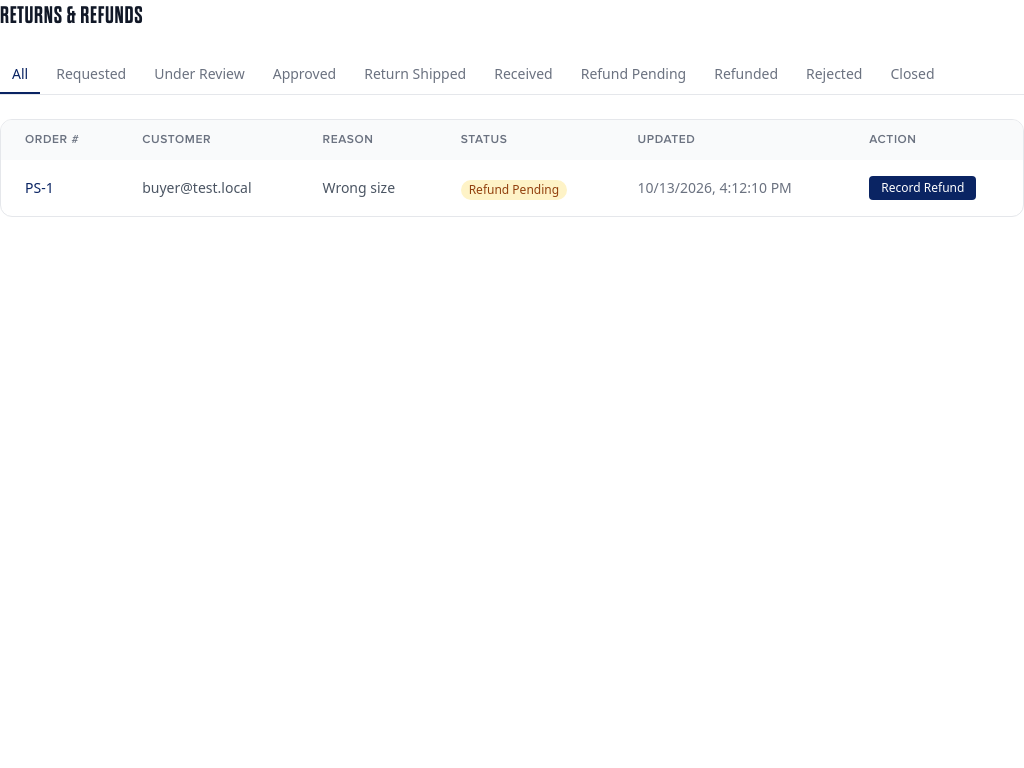
Test: AdminReturns — recording requirements › shows success confirmation with lifecycle exceptions and refreshes the queue
Click the button "Record Refund". click: coordinates (923, 188)
box: [869,176,976,200]
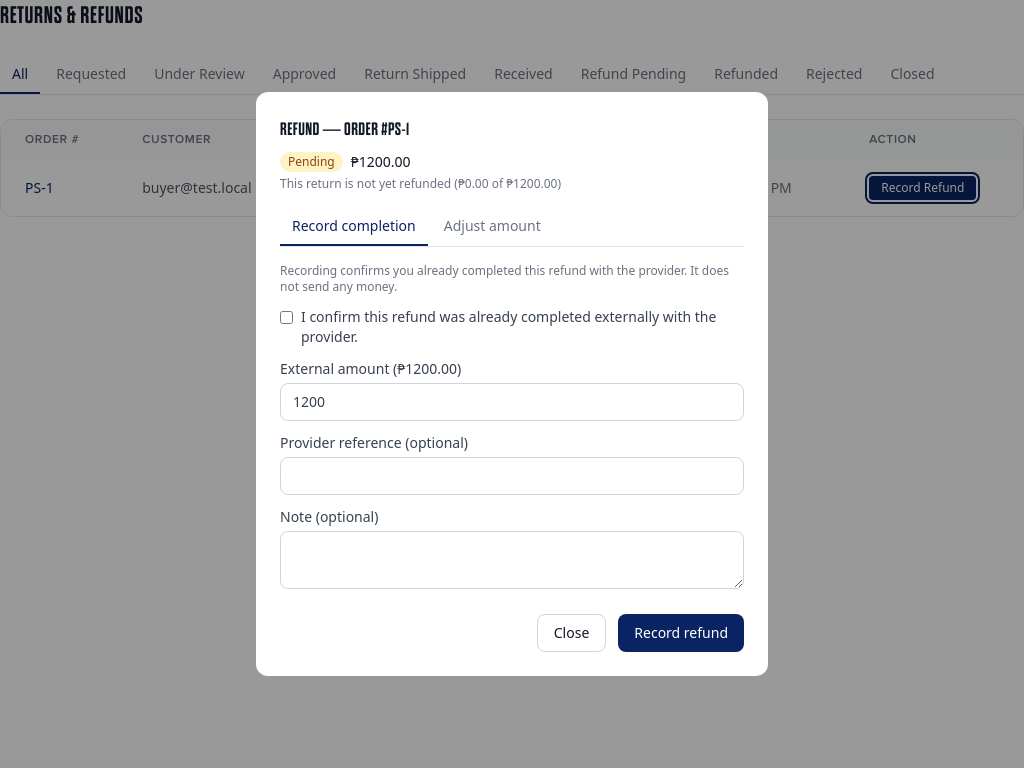
Result: the heading "Refund — Order #PS-1" is shown at [280,119,410,140]
Click the checkbox labelled "I confirm this refund was already completed". click: coordinates (286, 318)
box: [280,311,293,324]
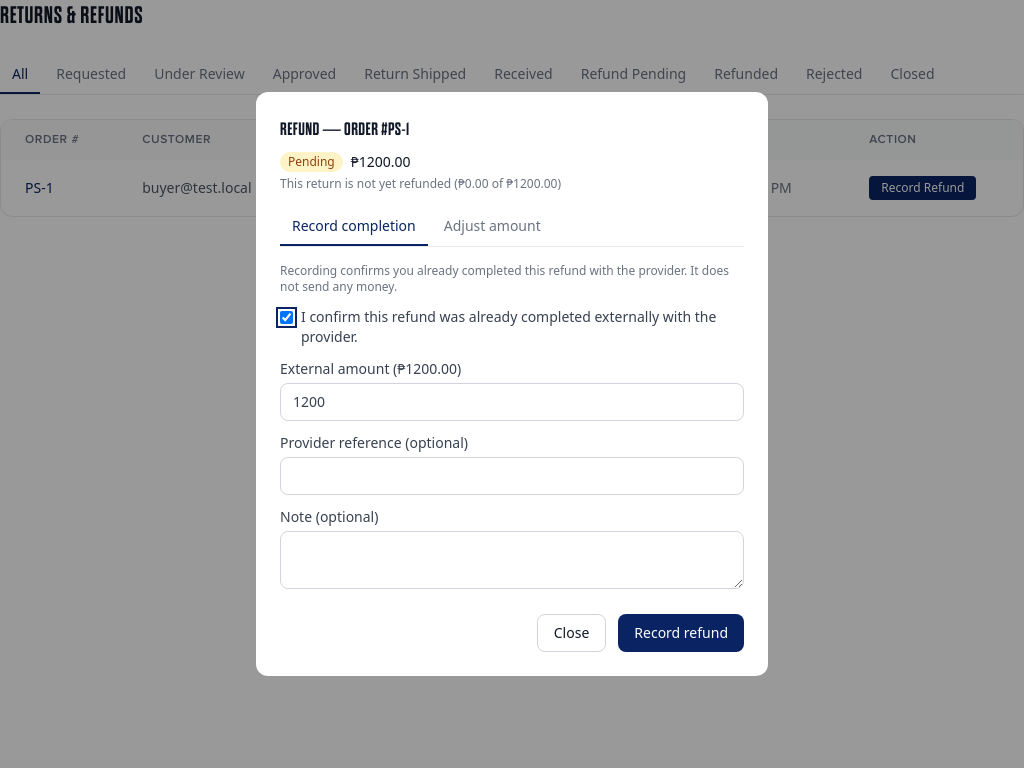
Click the button "Record refund". click: coordinates (681, 633)
box: [618,614,744,652]
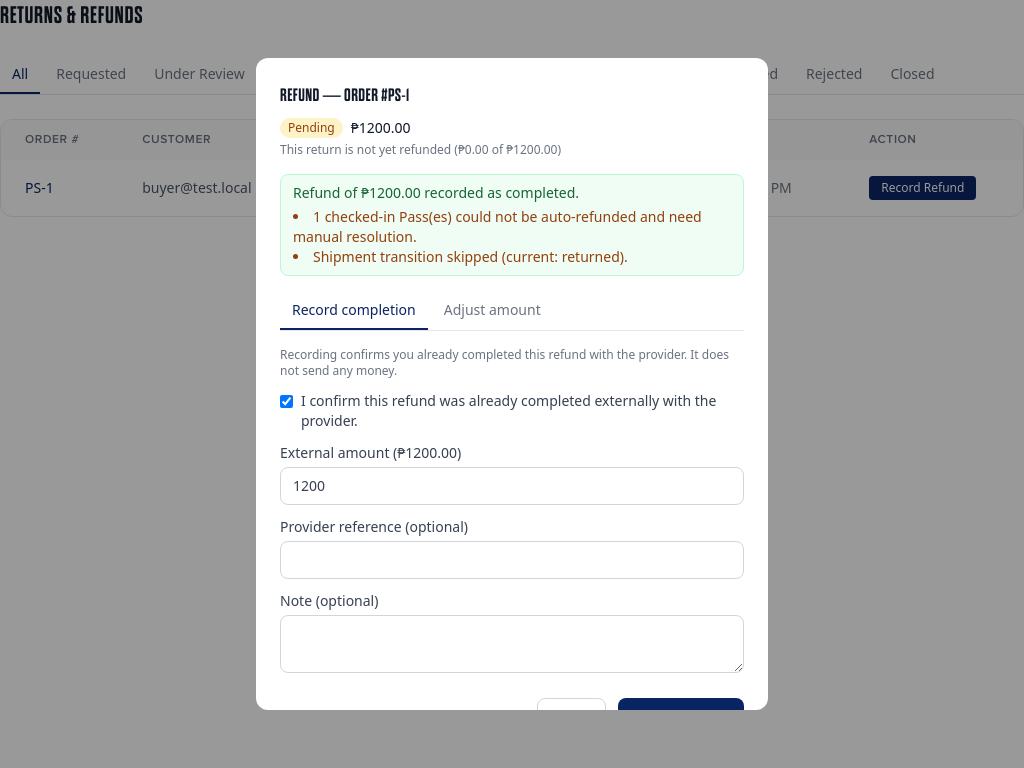
Result: the message shows "recorded as completed" at [421,183,579,202]
Result: the message shows "1 checked-in Pass(es)" at [293,207,702,246]
Result: the message shows "Shipment transition skipped" at [313,247,628,266]
